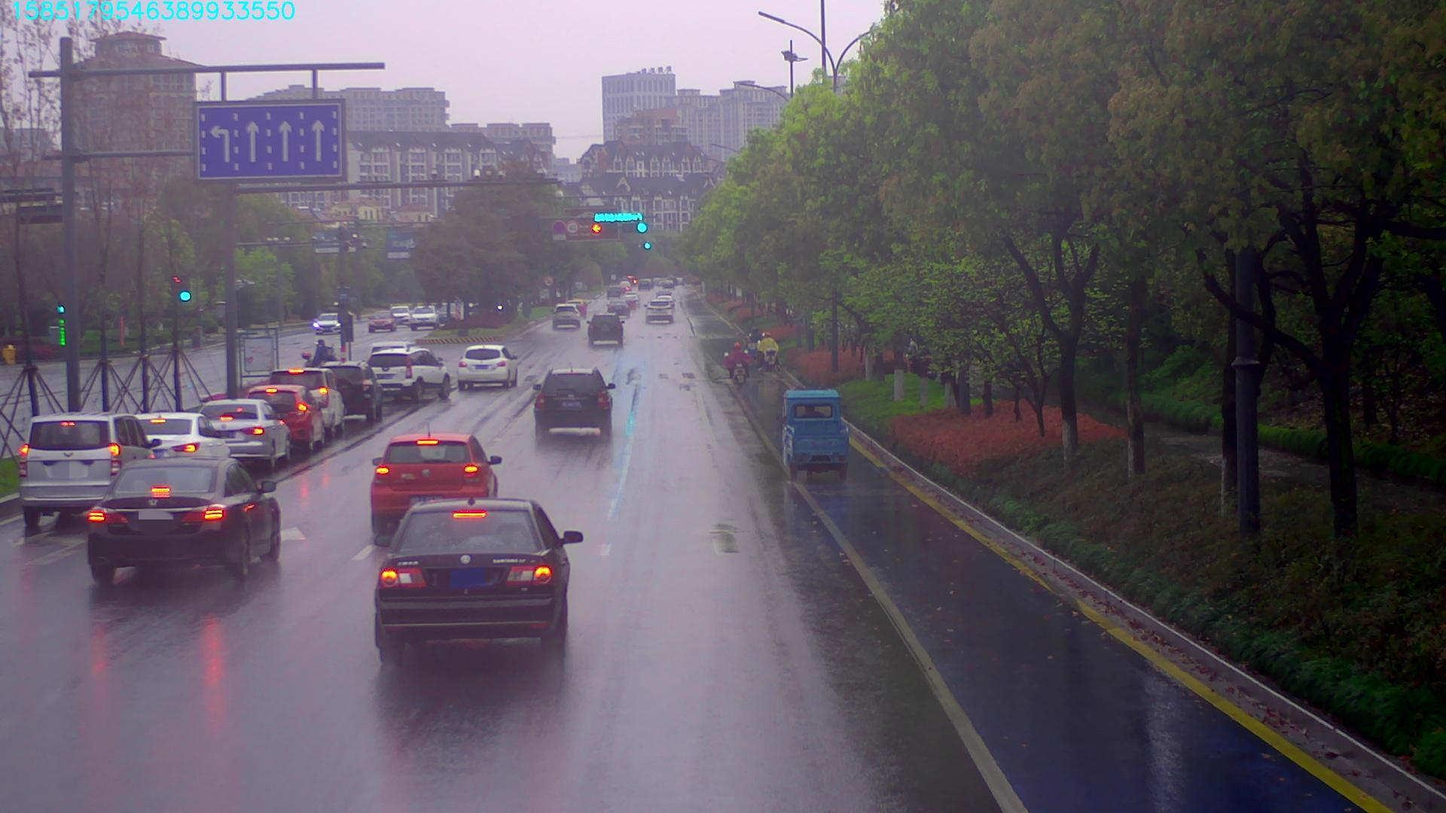green: (624, 221, 649, 235)
red: (591, 221, 609, 235)
wait_on: (592, 209, 644, 220)
